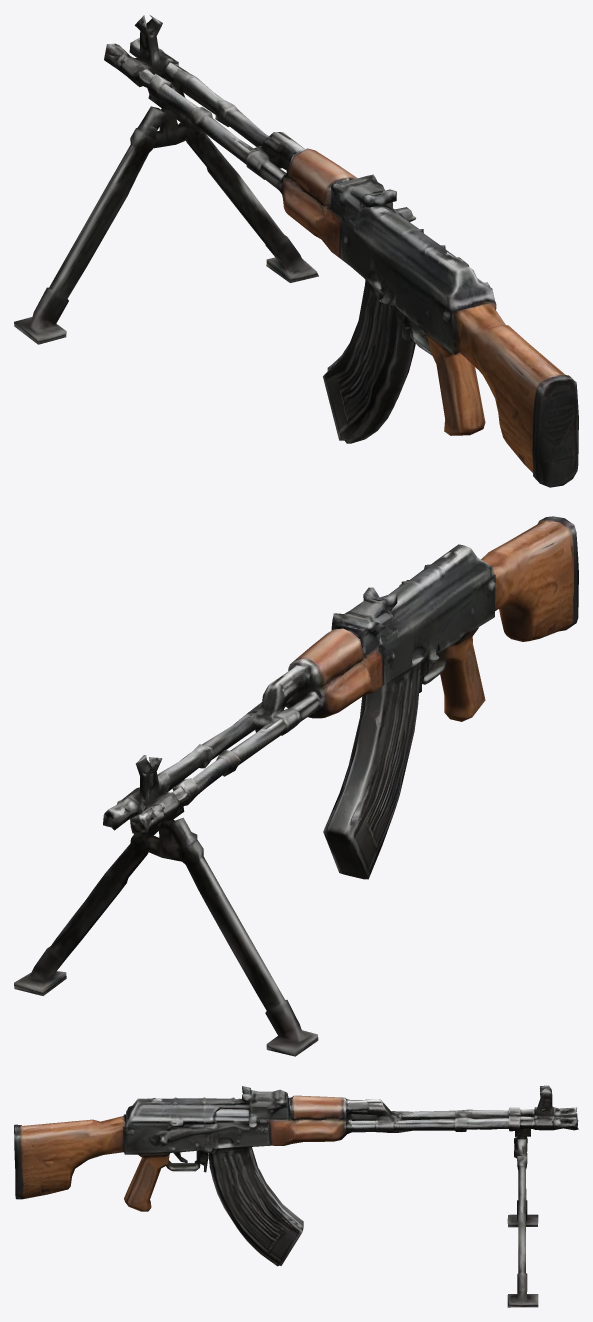
File: w_rpk.glb
3 views of the same model, one above another, from view 1: azimuth 30°, elevation 25°; view 2: azimuth 150°, elevation 25°; view 3: azimuth 270°, elevation 25° (orthographic). The views are drawn at different scales.
Visible parts, largest first — view 1: tripo_node_9265e87c-7188-4146-9fff-b33bb92488e6; view 2: tripo_node_9265e87c-7188-4146-9fff-b33bb92488e6; view 3: tripo_node_9265e87c-7188-4146-9fff-b33bb92488e6.
Boxes of the visible parts, x1,y1,x2,y2 form: tripo_node_9265e87c-7188-4146-9fff-b33bb92488e6: [14, 15, 578, 487]; tripo_node_9265e87c-7188-4146-9fff-b33bb92488e6: [14, 516, 578, 1056]; tripo_node_9265e87c-7188-4146-9fff-b33bb92488e6: [14, 1085, 578, 1307].
Bounding box in the file's own units: 0.3725 × 0.3466 × 1.
1 material, 1 textured.
